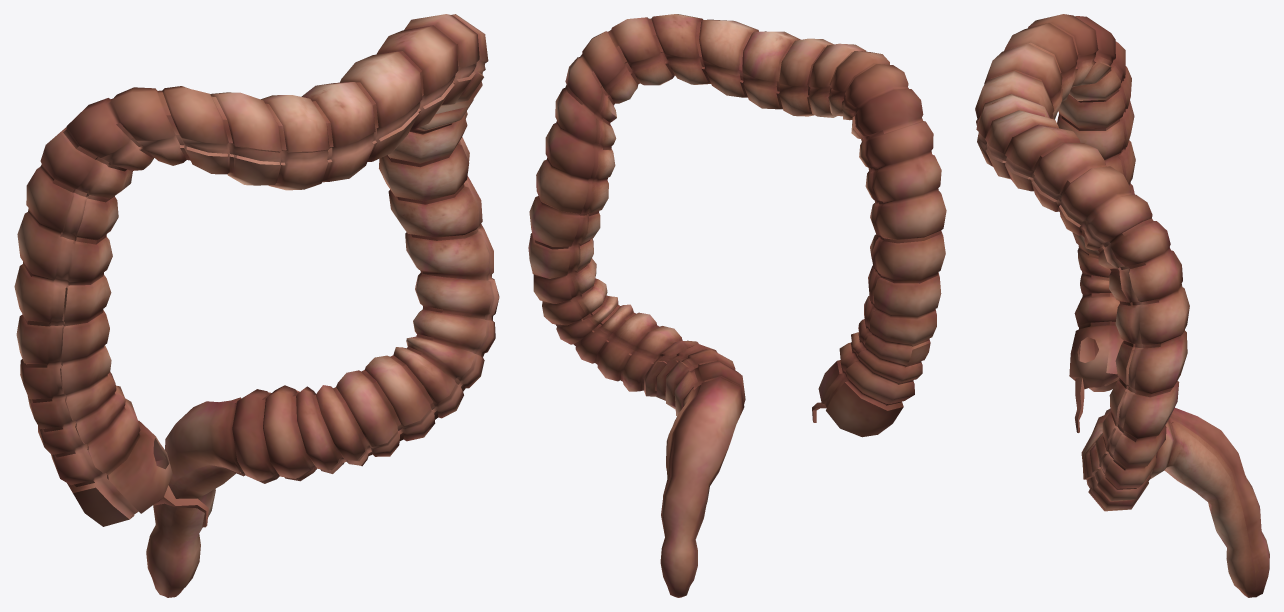
Rendered from 男性_消化系统_大肠.fbx.
3 views of the same model, side by side, from view 1: azimuth 30°, elevation 25°; view 2: azimuth 150°, elevation 25°; view 3: azimuth 270°, elevation 25° (orthographic). The views are drawn at different scales.
Visible parts, largest first — view 1: 男性_消化系统_大肠; view 2: 男性_消化系统_大肠; view 3: 男性_消化系统_大肠.
Boxes of the visible parts, left/top/right/bottom form: 男性_消化系统_大肠: left=14, top=14, right=499, bottom=597; 男性_消化系统_大肠: left=528, top=14, right=946, bottom=597; 男性_消化系统_大肠: left=975, top=14, right=1269, bottom=597.
Bounding box in the file's own units: 22.71 × 27.21 × 13.85.
